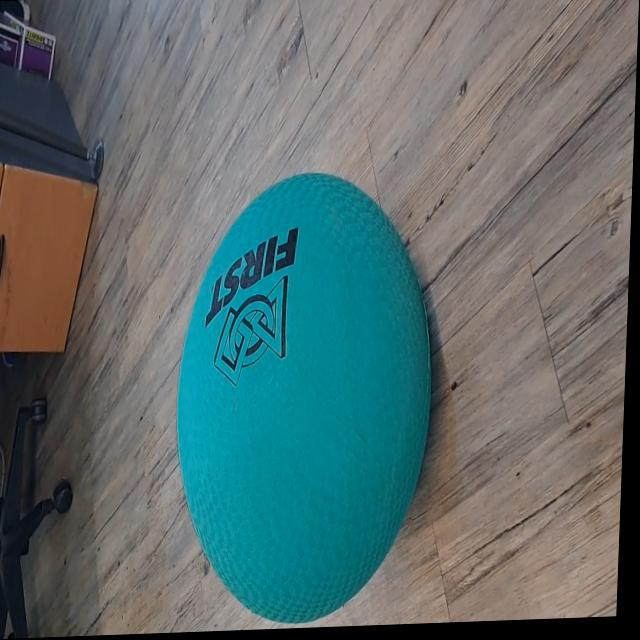ALGAE: (167, 165, 441, 629)
